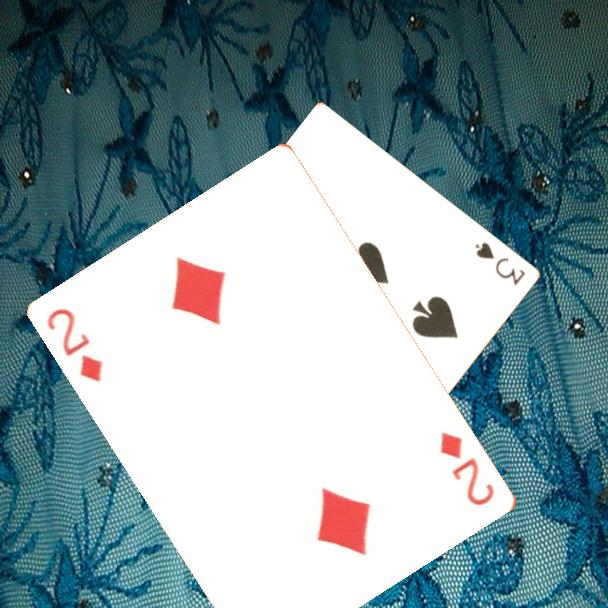d02: (43, 305, 107, 385), (437, 428, 499, 509)
s03: (472, 238, 529, 288)
